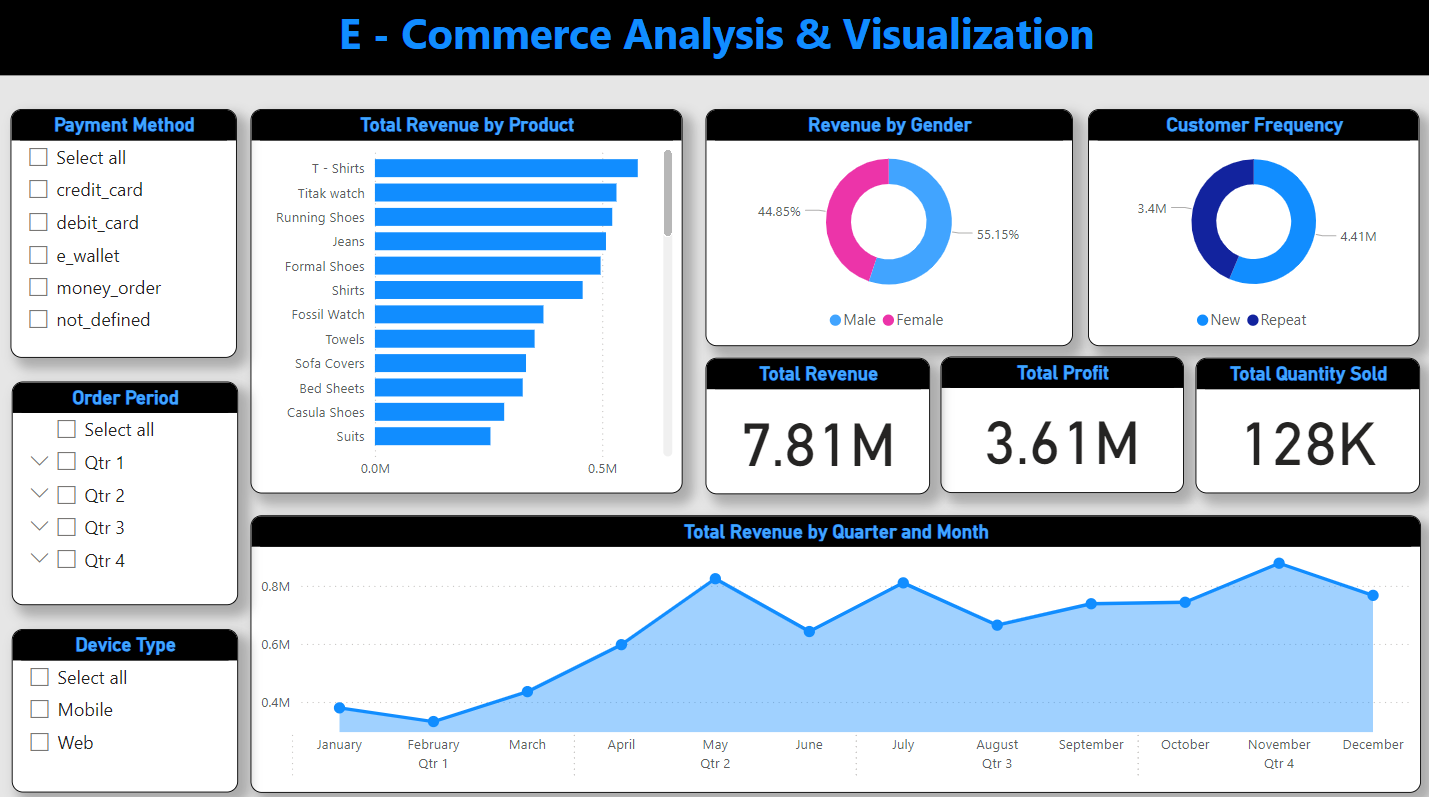

What the dashboard file says about the page in this screenshot:
{"tool":"powerbi","page":{"name":"Page 1","canvas":[1280,720],"ordinal":0},"visuals":[{"type":"textbox","box":[0,0,1280,67.6],"z":0},{"type":"donutChart","title":"Revenue by Gender","fields":{"Category":["Ecomm_visualization.Gender"],"Y":["Base Measures.Total Revenue"]},"box":[629.8,97.7,326.9,211.1],"z":1000},{"type":"areaChart","fields":{"Category":["Ecomm_visualization.Order_Date.Variation.Date Hierarchy.Quarter","Ecomm_visualization.Order_Date.Variation.Date Hierarchy.Month"],"Y":["Base Measures.Total Revenue"]},"box":[224.4,459.7,1042.4,247.3],"z":2000},{"type":"barChart","fields":{"Category":["Ecomm_visualization.Product"],"Y":["Base Measures.Total Revenue"]},"box":[224.4,97.7,384.9,342.6],"z":3000},{"type":"donutChart","title":"Customer Frequency","fields":{"Category":["Ecomm_visualization.customer_type"],"Y":["Base Measures.Total Revenue"]},"box":[971.2,97.7,295.6,211.1],"z":3001},{"type":"card","title":"Total Profit","fields":{"Values":["Base Measures.Total Profit"]},"box":[629.8,319.7,217.2,120.6],"z":3002},{"type":"card","title":"Total Revenue","fields":{"Values":["Base Measures.Total Revenue"]},"box":[856.6,319.7,200.3,120.6],"z":3003},{"type":"card","title":"Total Quantity Sold","fields":{"Values":["Base Measures.Total Qty"]},"box":[1066.5,319.7,200.3,120.6],"z":3004},{"type":"slicer","title":"Payment Method","fields":{"Values":["Ecomm_visualization.Payment_method"]},"box":[10.9,97.7,201.5,222],"z":3005},{"type":"slicer","title":"Order Period","fields":{"Values":["Ecomm_visualization.Order_Date.Variation.Date Hierarchy.Quarter","Ecomm_visualization.Order_Date.Variation.Date Hierarchy.Month"]},"box":[12.1,340.2,201.5,199.1],"z":3006},{"type":"slicer","title":"Device Type","fields":{"Values":["Ecomm_visualization.Device_Type"]},"box":[12.1,561,201.5,146],"z":3007}]}

Visuals, with their boxes in screenshot pixels (x1, y1, x2, y2), scaled from the page's 1280x720 canvas onto the 1429x797 screenshot:
textbox: bbox=[0, 0, 1428, 75]
"Revenue by Gender" donutChart: bbox=[703, 108, 1068, 342]
areaChart - Ecomm_visualization.Order_Date.Variation.Date Hierarchy.Quarter x Ecomm_visualization.Order_Date.Variation.Date Hierarchy.Month: bbox=[251, 509, 1414, 783]
barChart - Ecomm_visualization.Product x Base Measures.Total Revenue: bbox=[251, 108, 680, 487]
"Customer Frequency" donutChart: bbox=[1084, 108, 1414, 342]
"Total Profit" card: bbox=[703, 354, 946, 487]
"Total Revenue" card: bbox=[956, 354, 1180, 487]
"Total Quantity Sold" card: bbox=[1191, 354, 1414, 487]
"Payment Method" slicer: bbox=[12, 108, 237, 354]
"Order Period" slicer: bbox=[14, 377, 238, 597]
"Device Type" slicer: bbox=[14, 621, 238, 783]
